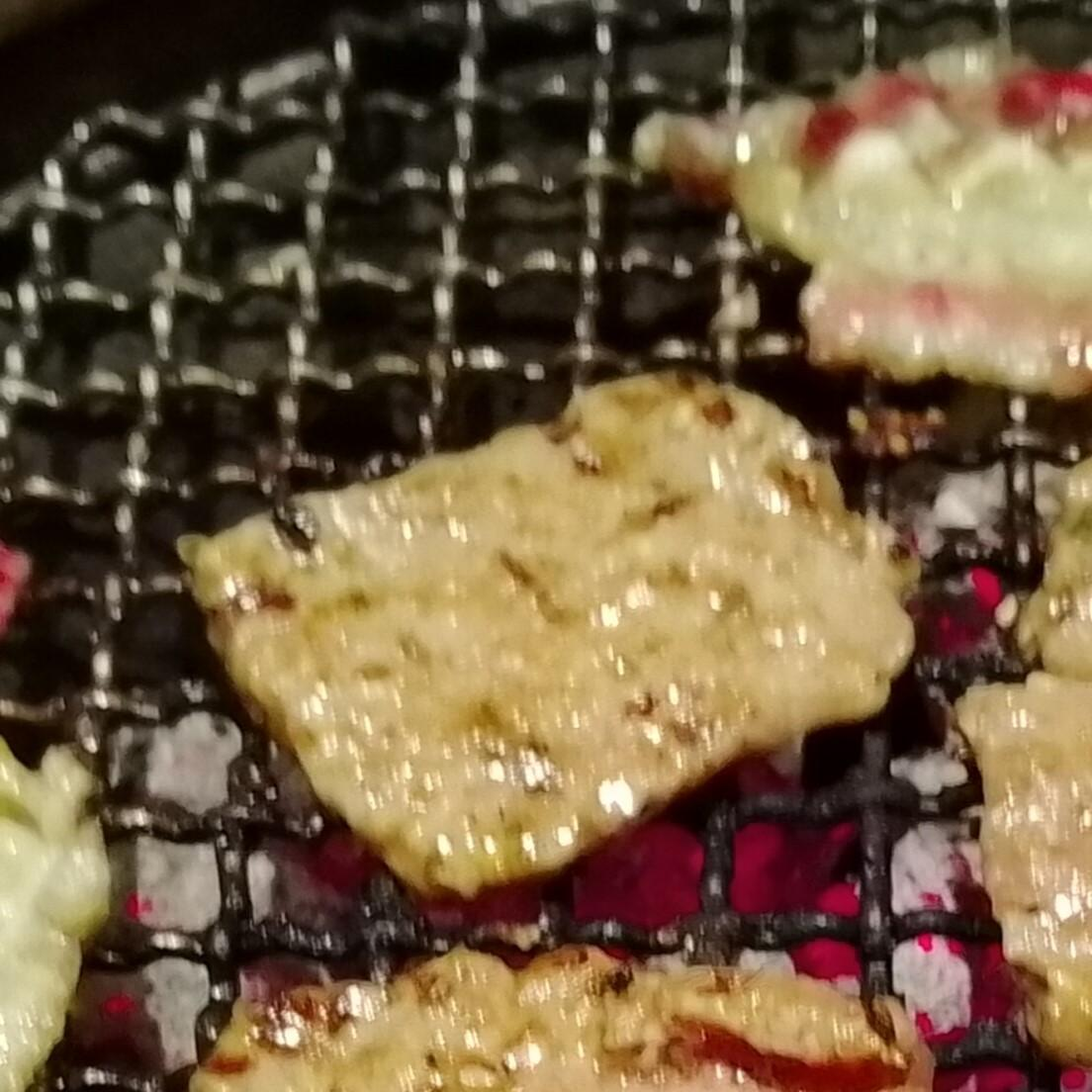Undercooked: (715, 41, 1091, 398)
Well-Cooked: (178, 372, 889, 902), (182, 943, 950, 1091), (957, 460, 1091, 1074)
